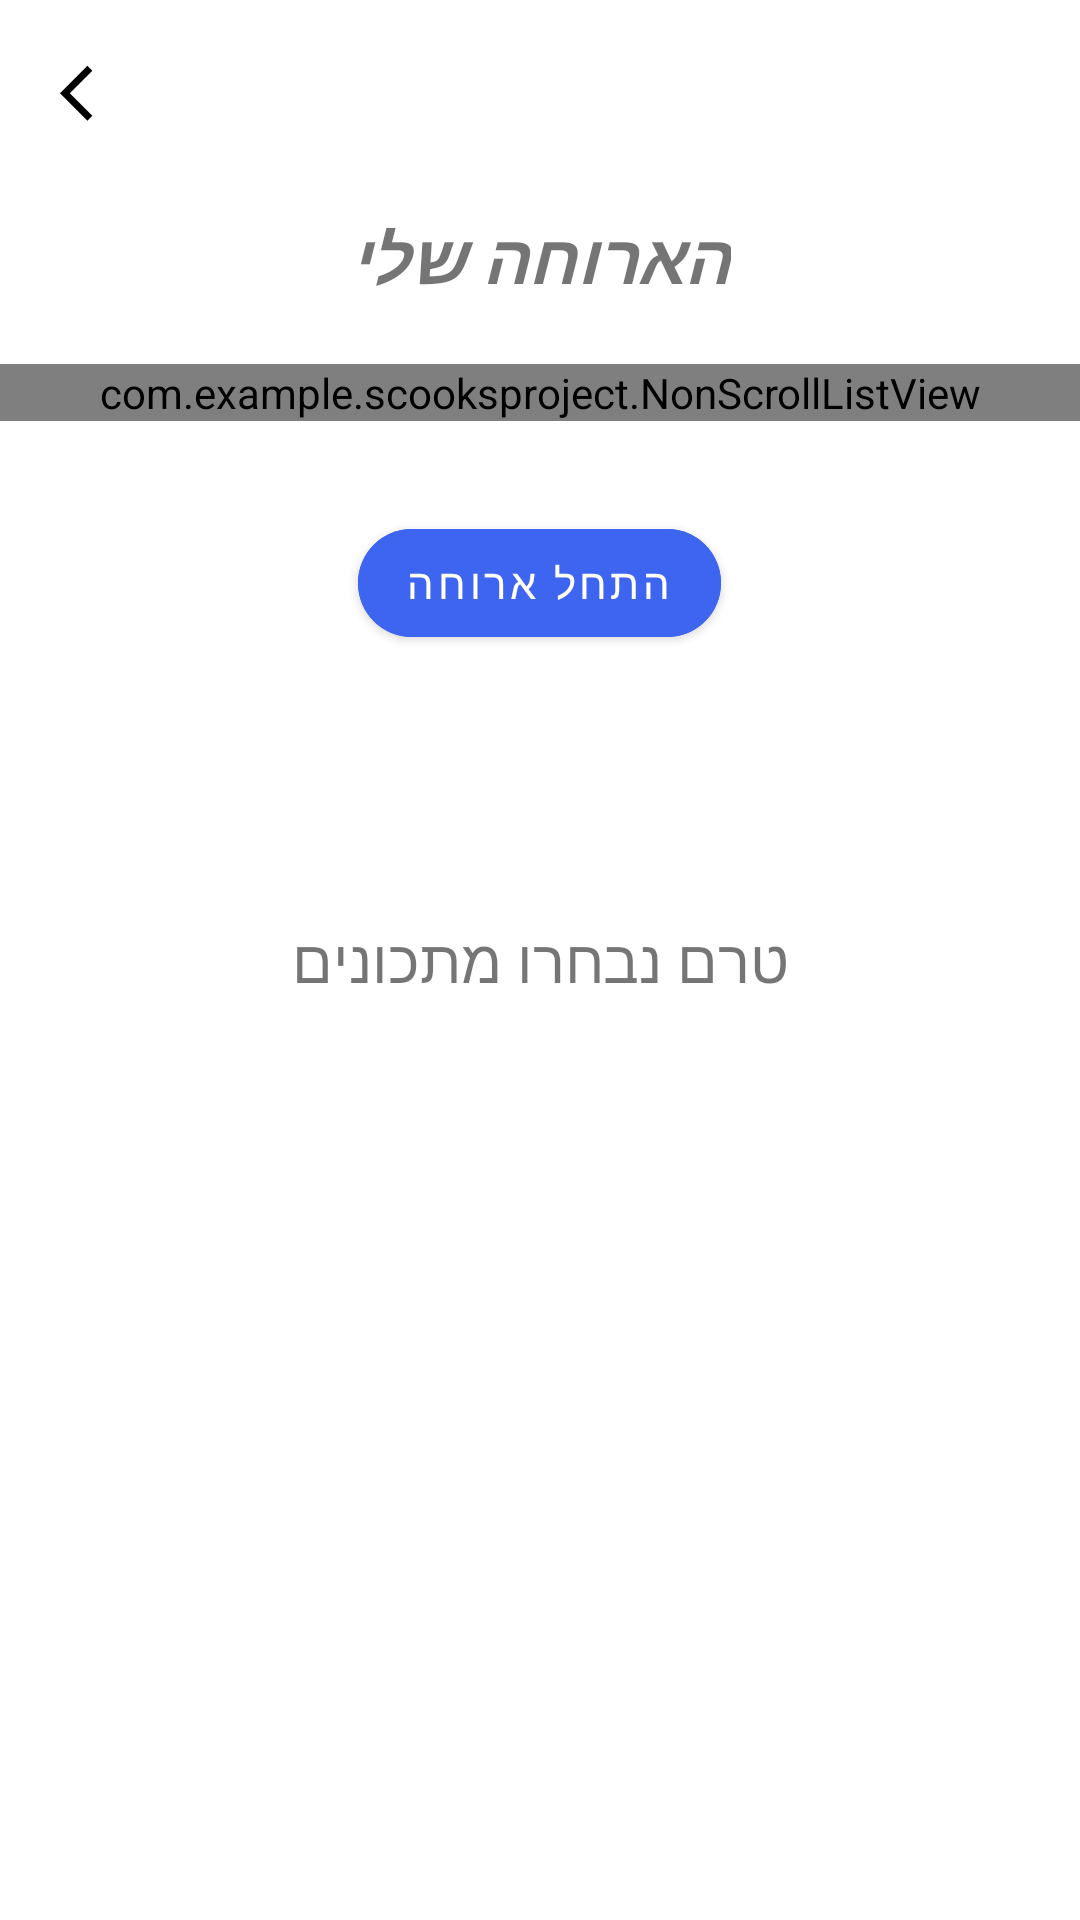

Where to tap for icons on this 1080 x 1920 app screen, as (x,y):
arrow back: (76,93)
